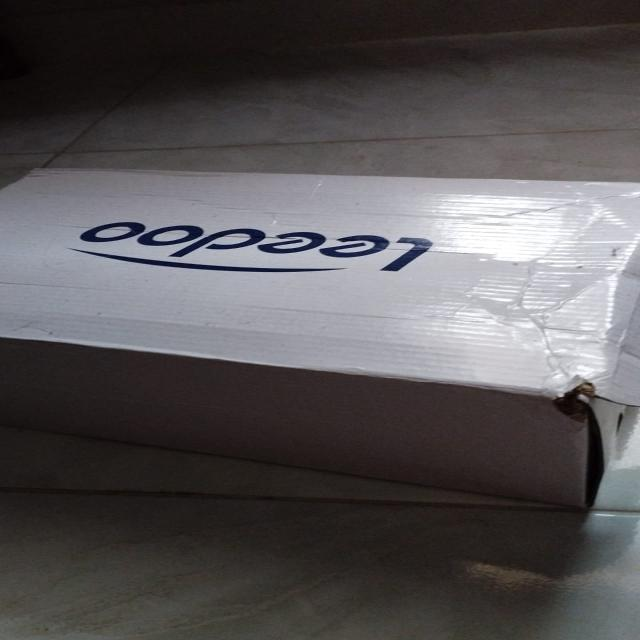Organik: (5, 165, 640, 515)
